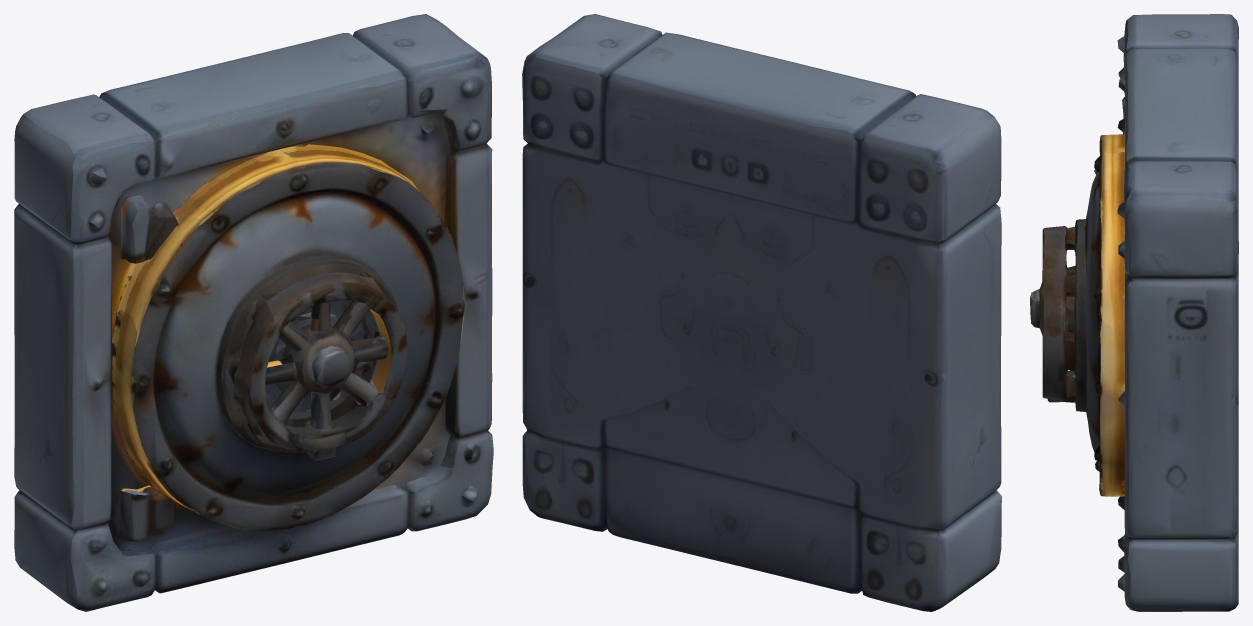
The model's file is ruin_vault.glb.
3 views of the same model, side by side, from view 1: azimuth 30°, elevation 25°; view 2: azimuth 150°, elevation 25°; view 3: azimuth 270°, elevation 25° (orthographic). The views are drawn at different scales.
Visible parts, largest first — view 1: ruin_vault; view 2: ruin_vault; view 3: ruin_vault.
Boxes of the visible parts, bbox=[...] form: ruin_vault: bbox=[14, 14, 493, 611]; ruin_vault: bbox=[522, 14, 1001, 611]; ruin_vault: bbox=[1030, 14, 1238, 611].
Size of the model in its own units: 0.9569 by 1 by 0.4464.
1 material, 1 textured.
